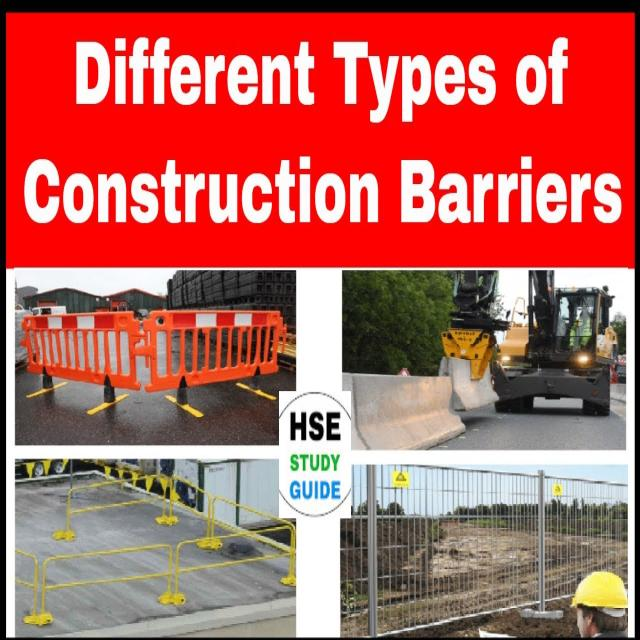cone: (20, 306, 287, 396)
